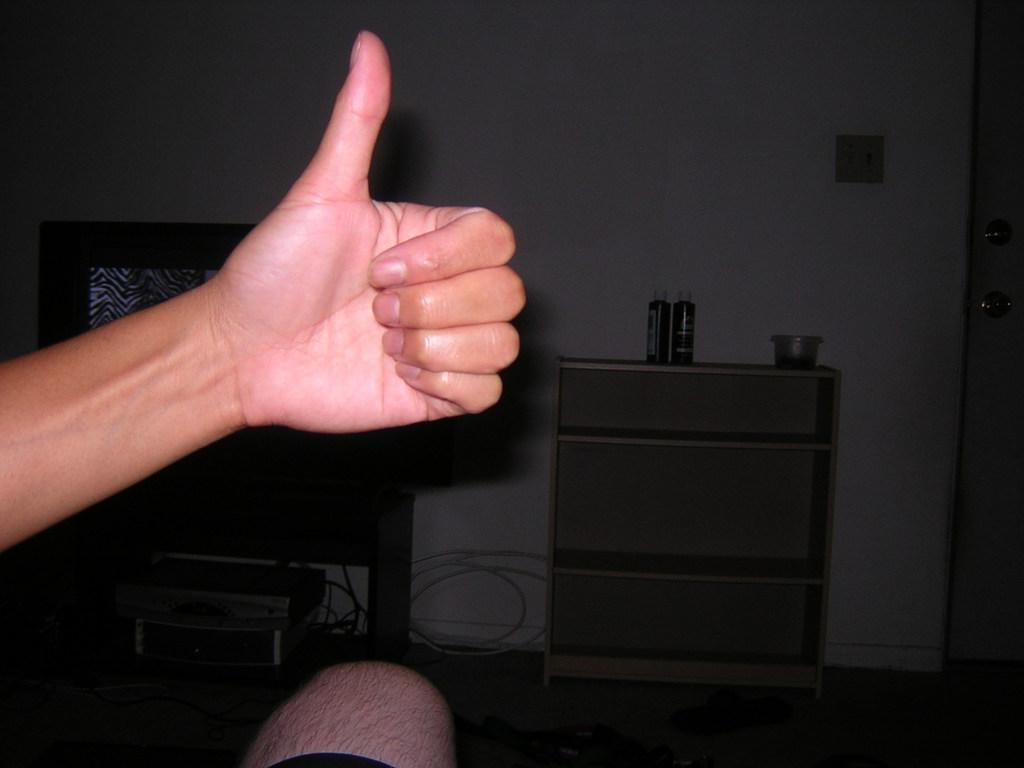door: (958, 68, 1024, 660)
handle: (978, 284, 1008, 312)
